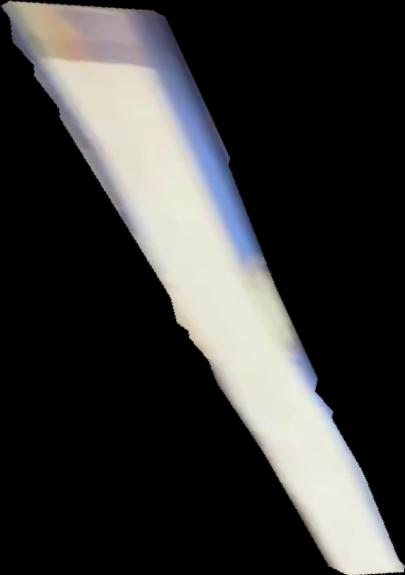backward: (1, 1, 405, 575)
